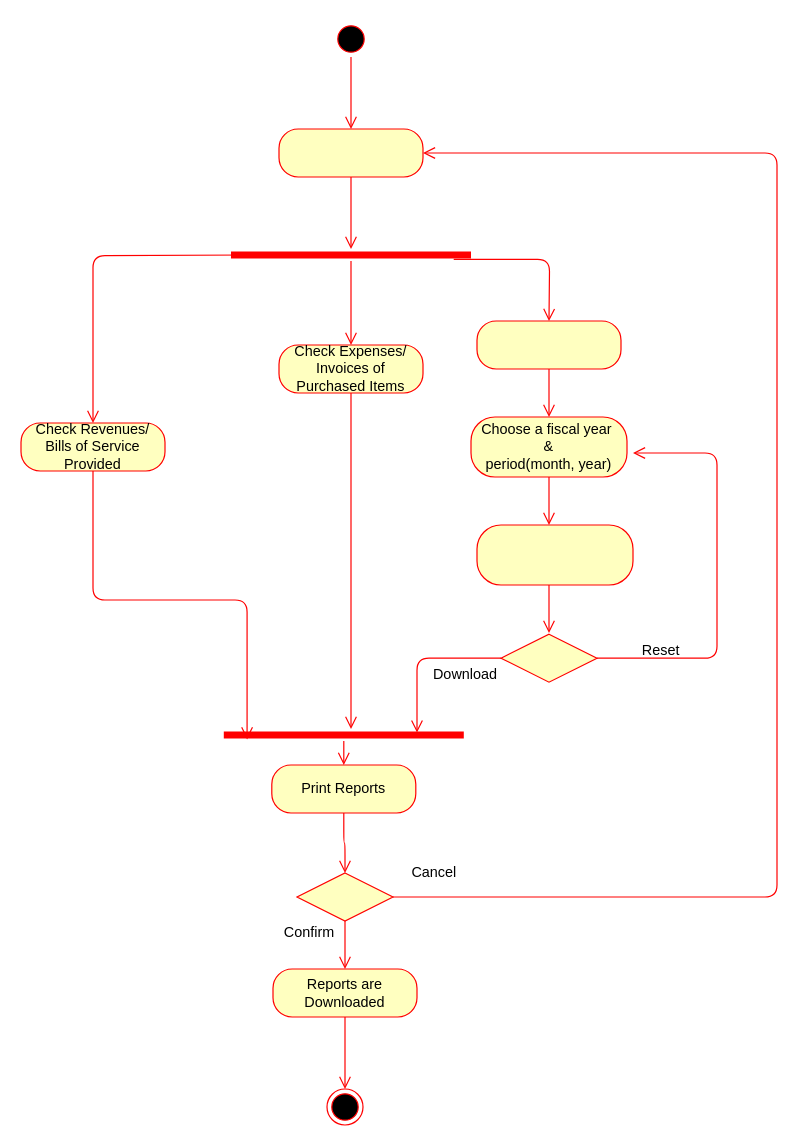
Some shapes in this 810 by 1146 pixel diagram are drawn without their labels. The box of each missing label's shape, as (x1, y1, x2, y2) in pixels:
A Statement of Financial Performance is generated: (476, 524, 633, 585)
Check Accounting Reports/ SFP: (476, 320, 621, 369)
Go to Dashboard/ Accounting: (278, 128, 423, 177)
